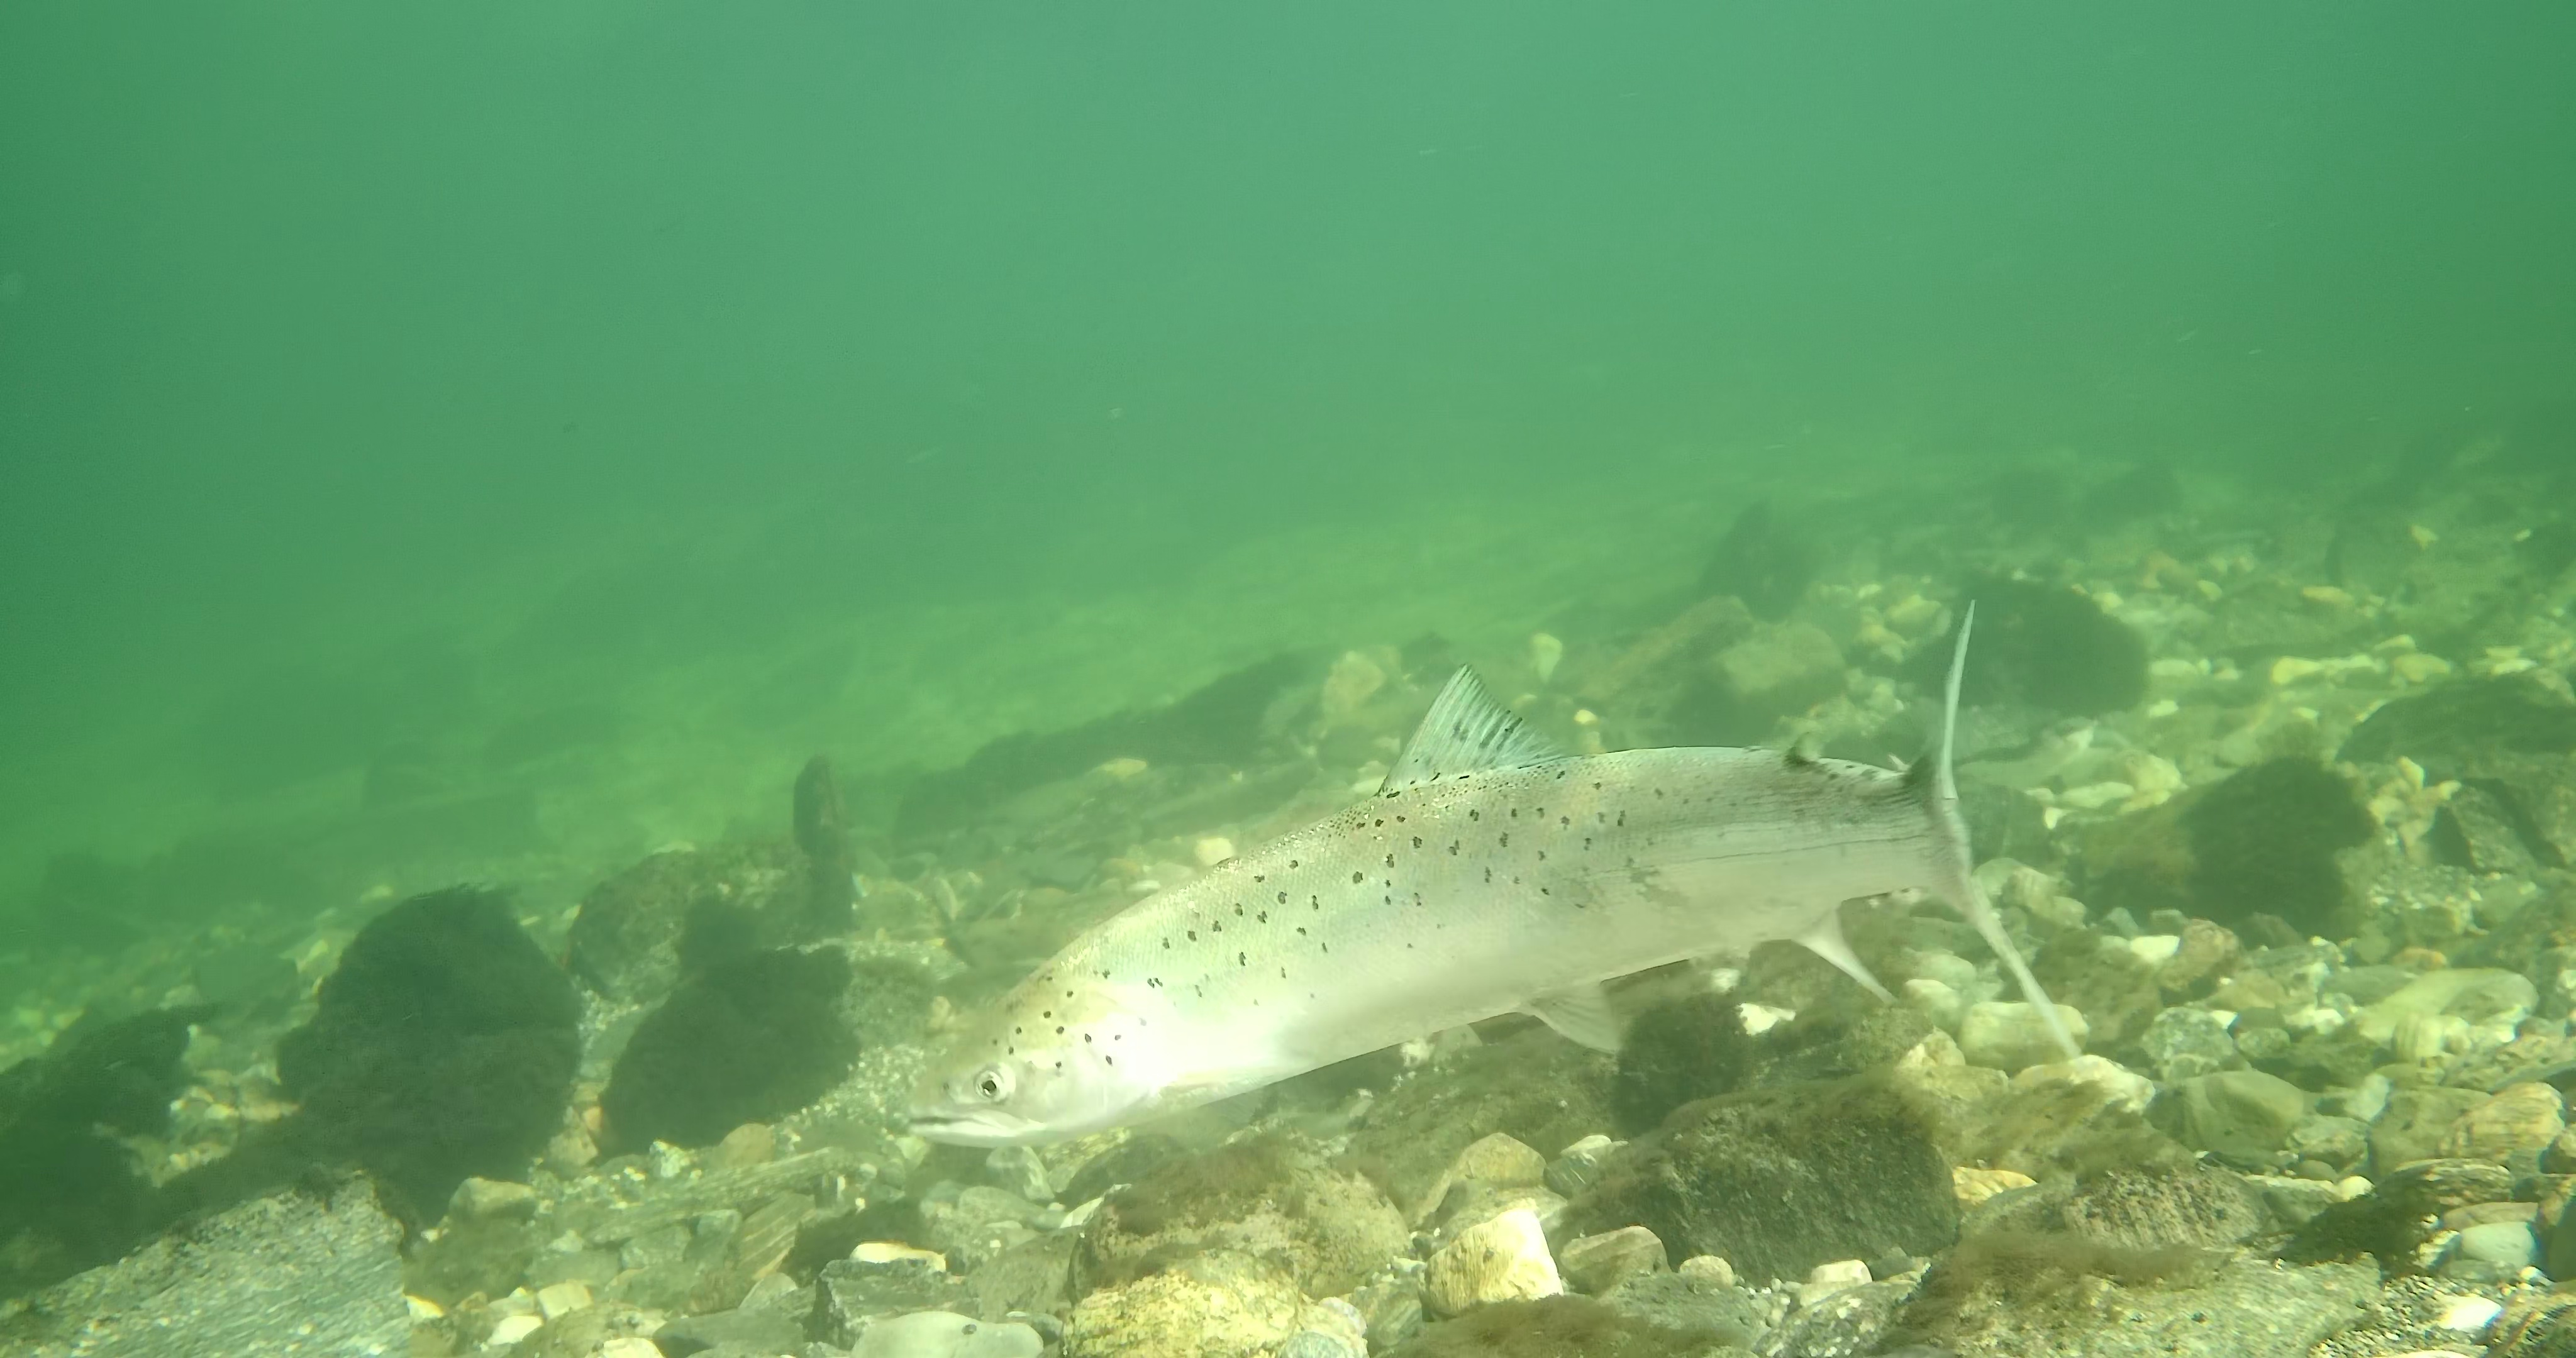salmon: (901, 596, 2094, 1152)
